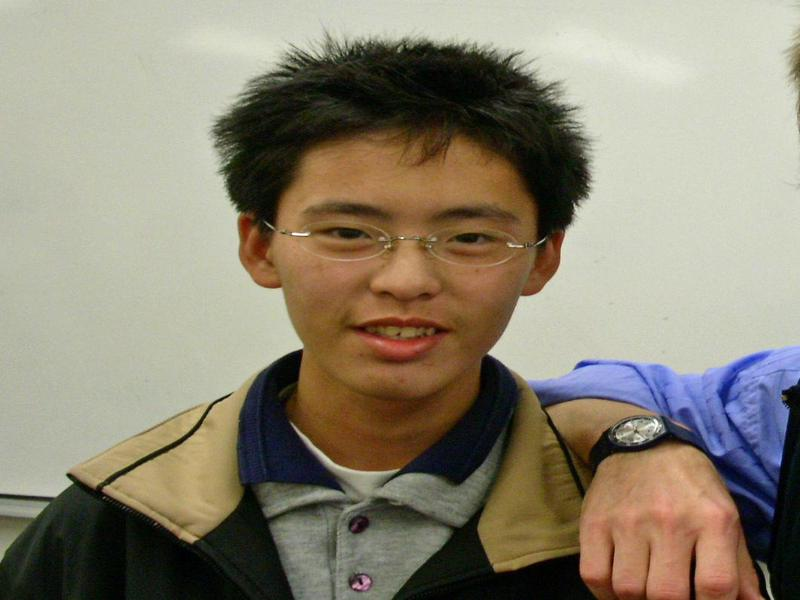person: (1, 40, 764, 600)
